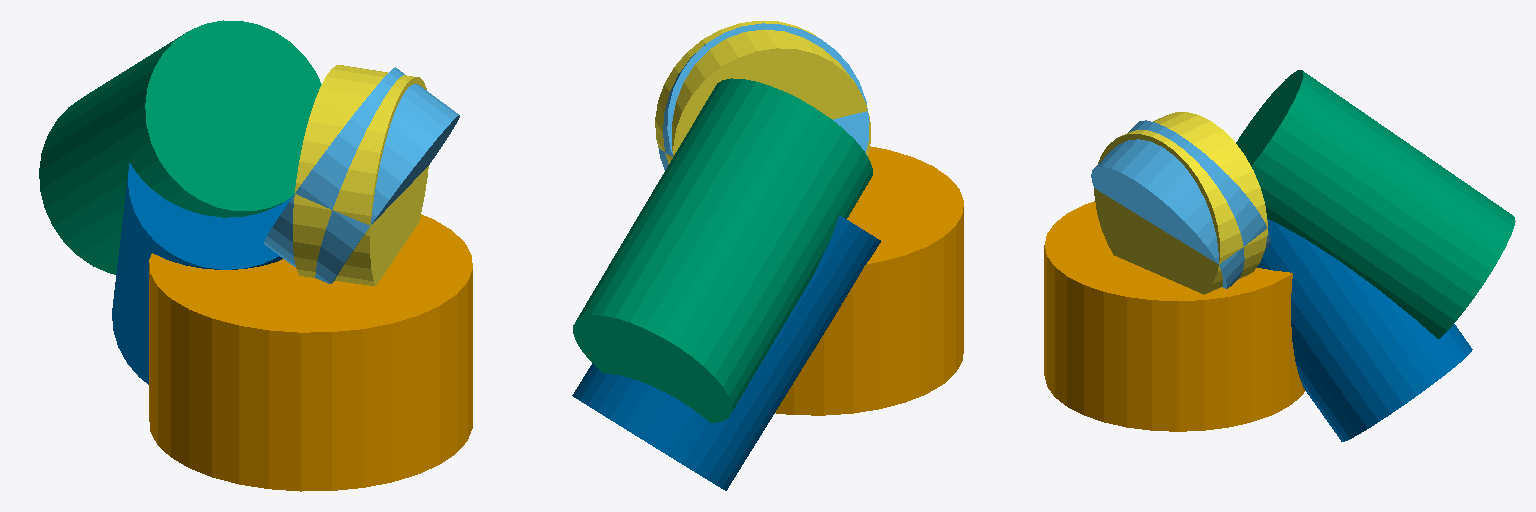
robot.urdf — pepe:
<?xml version="1.0"?><robot name="pepe">
	<link name="0">
		<visual>
			<geometry>
				<cylinder length="0.8619765257516752" radius="0.7974746987959628"/>
			</geometry>
		</visual>
		<collision>
			<geometry>
				<cylinder length="0.8619765257516752" radius="0.7974746987959628"/>
			</geometry>
		</collision>
		<inertial>
			<mass value="1.722182365839306"/>
			<inertia ixx="0.03" iyy="0.03" izz="0.03" ixy="0" ixz="0" iyx="0"/>
		</inertial>
	</link>
	<link name="11">
		<visual>
			<geometry>
				<cylinder length="0.39591965389582406" radius="0.542259975153046"/>
			</geometry>
		</visual>
		<collision>
			<geometry>
				<cylinder length="0.39591965389582406" radius="0.542259975153046"/>
			</geometry>
		</collision>
		<inertial>
			<mass value="0.3657396403654328"/>
			<inertia ixx="0.03" iyy="0.03" izz="0.03" ixy="0" ixz="0" iyx="0"/>
		</inertial>
	</link>
	<link name="22">
		<visual>
			<geometry>
				<cylinder length="1.5620240224464608" radius="0.48176905728716923"/>
			</geometry>
		</visual>
		<collision>
			<geometry>
				<cylinder length="1.5620240224464608" radius="0.48176905728716923"/>
			</geometry>
		</collision>
		<inertial>
			<mass value="1.1389781359050966"/>
			<inertia ixx="0.03" iyy="0.03" izz="0.03" ixy="0" ixz="0" iyx="0"/>
		</inertial>
	</link>
	<link name="13">
		<visual>
			<geometry>
				<cylinder length="0.39591965389582406" radius="0.542259975153046"/>
			</geometry>
		</visual>
		<collision>
			<geometry>
				<cylinder length="0.39591965389582406" radius="0.542259975153046"/>
			</geometry>
		</collision>
		<inertial>
			<mass value="0.3657396403654328"/>
			<inertia ixx="0.03" iyy="0.03" izz="0.03" ixy="0" ixz="0" iyx="0"/>
		</inertial>
	</link>
	<link name="24">
		<visual>
			<geometry>
				<cylinder length="1.5620240224464608" radius="0.48176905728716923"/>
			</geometry>
		</visual>
		<collision>
			<geometry>
				<cylinder length="1.5620240224464608" radius="0.48176905728716923"/>
			</geometry>
		</collision>
		<inertial>
			<mass value="1.1389781359050966"/>
			<inertia ixx="0.03" iyy="0.03" izz="0.03" ixy="0" ixz="0" iyx="0"/>
		</inertial>
	</link>
	<joint name="11_to_0" type="revolute">
		<parent link="0"/>
		<child link="11"/>
		<axis xyz="0 1 0"/>
		<limit effort="1" upper="-3.1415" lower="3.1415" velocity="1"/>
		<origin rpy="11.546230044354902 0.14043467431111878 0.7744587835114084" xyz="0.29904373405881135 0.01924679754309011 0.8123623879416968"/>
	</joint>
	<joint name="22_to_11" type="revolute">
		<parent link="11"/>
		<child link="22"/>
		<axis xyz="0 0 1"/>
		<limit effort="1" upper="-3.1415" lower="3.1415" velocity="1"/>
		<origin rpy="11.32233760503962 0.9311136338179692 5.752138905189514" xyz="0.5086791799572757 0.6428086020897853 0.8283257935337676"/>
	</joint>
	<joint name="13_to_0" type="revolute">
		<parent link="0"/>
		<child link="13"/>
		<axis xyz="0 1 0"/>
		<limit effort="1" upper="-3.1415" lower="3.1415" velocity="1"/>
		<origin rpy="17.319345066532353 0.14043467431111878 0.7744587835114084" xyz="0.29904373405881135 0.01924679754309011 0.8123623879416968"/>
	</joint>
	<joint name="24_to_13" type="revolute">
		<parent link="13"/>
		<child link="24"/>
		<axis xyz="0 0 1"/>
		<limit effort="1" upper="-3.1415" lower="3.1415" velocity="1"/>
		<origin rpy="11.32233760503962 0.9311136338179692 5.752138905189514" xyz="0.5086791799572757 0.6428086020897853 0.8283257935337676"/>
	</joint>
</robot>

--- What the picture shows (computed from the rendered views, not written in the file) ---
3 views of the same robot in one strip: view 1: azimuth 30°, elevation 25°; view 2: azimuth 150°, elevation 25°; view 3: azimuth 270°, elevation 25° (orthographic).
Robot: pepe — 5 links, 4 joints (4 revolute); root link 0; default pose: every joint at zero.
Links seen in each view (by area): view 1: 0, 22, 13, 24, 11; view 2: 22, 0, 24, 13, 11; view 3: 0, 22, 24, 13, 11.
Boxes of the visible links, box(x1,y1,x2,y2) form: 0: box(149, 214, 472, 491); 22: box(39, 20, 321, 274); 13: box(293, 65, 428, 285); 24: box(112, 163, 292, 384); 11: box(264, 67, 459, 283); 22: box(573, 78, 872, 422); 0: box(775, 146, 963, 415); 24: box(572, 215, 880, 490); 13: box(655, 21, 870, 163); 11: box(658, 23, 869, 169); 0: box(1044, 201, 1304, 431); 22: box(1236, 70, 1515, 338); 24: box(1257, 219, 1472, 441); 13: box(1094, 112, 1267, 294); 11: box(1091, 120, 1270, 288).
Size in the robot's own frame: 1.66 by 2.82 by 2.24 metres.
Geometry: primitives only (box / cylinder / sphere), no mesh files.
